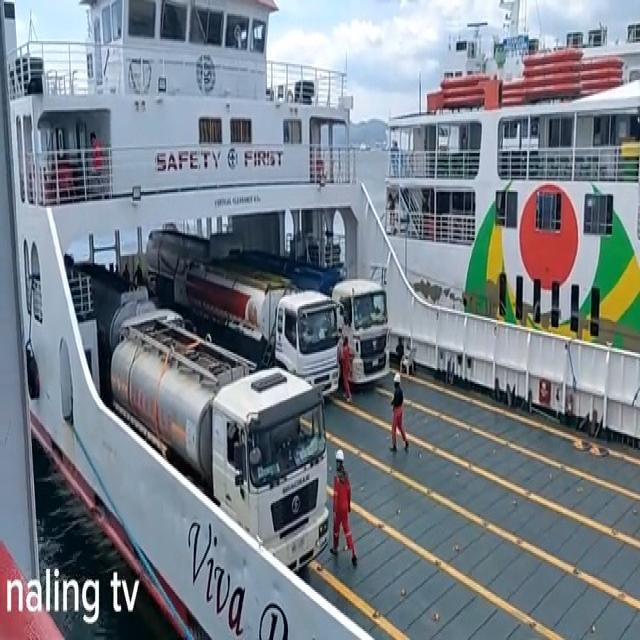truck: (110, 319, 329, 584), (186, 256, 342, 407), (264, 250, 391, 390)
